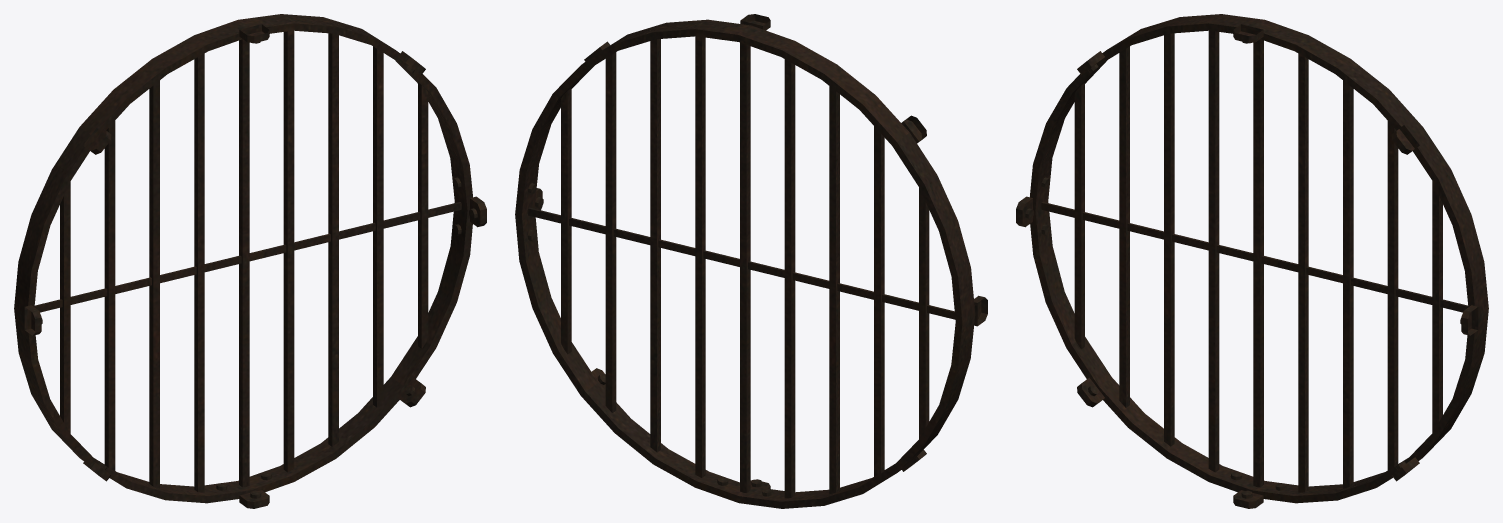
The model's file is concrete_pipe_hm_1_end_bars_1.dae.
The picture shows the model from 3 angles, left to right: view 1: azimuth 30°, elevation 25°; view 2: azimuth 150°, elevation 25°; view 3: azimuth 330°, elevation 25°; orthographic projection.
Parts seen in each view (by area): view 1: concrete_pipe_hm_1_end_bars_1; view 2: concrete_pipe_hm_1_end_bars_1; view 3: concrete_pipe_hm_1_end_bars_1.
Part boxes in pixels (x1,y1,x2,y2): concrete_pipe_hm_1_end_bars_1: [14, 14, 486, 508]; concrete_pipe_hm_1_end_bars_1: [515, 14, 987, 508]; concrete_pipe_hm_1_end_bars_1: [1016, 14, 1488, 508].
Bounding box in the file's own units: 2.02 × 0.18 × 2.02.
Materials: 1 (1 with a texture image).
